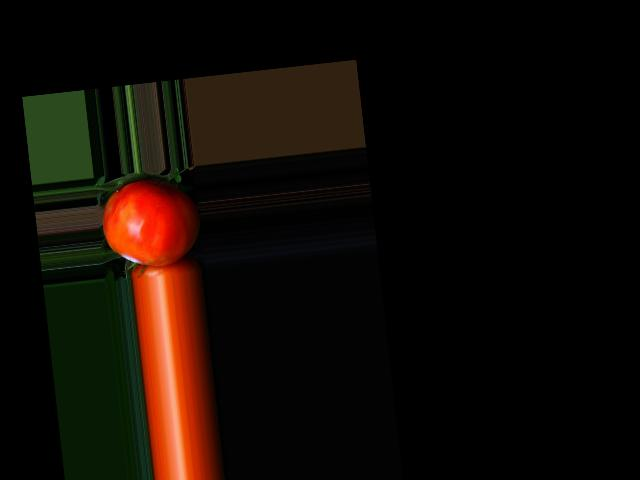tomato: (98, 175, 204, 271)
